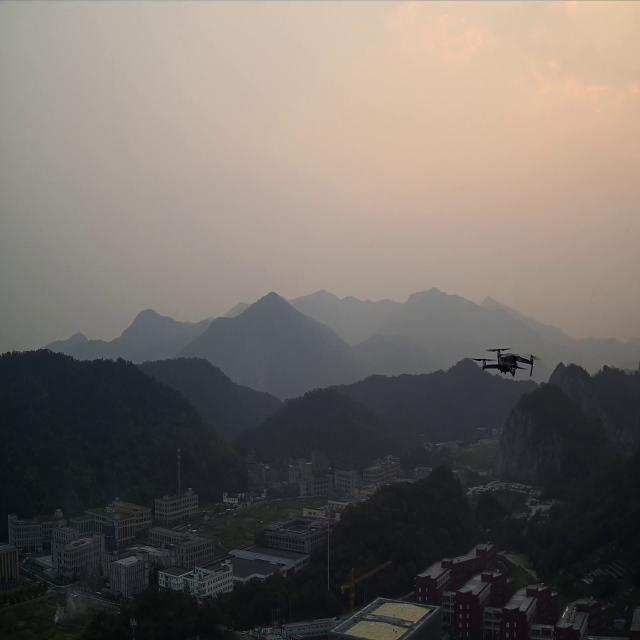UAV: (468, 344, 543, 377)
